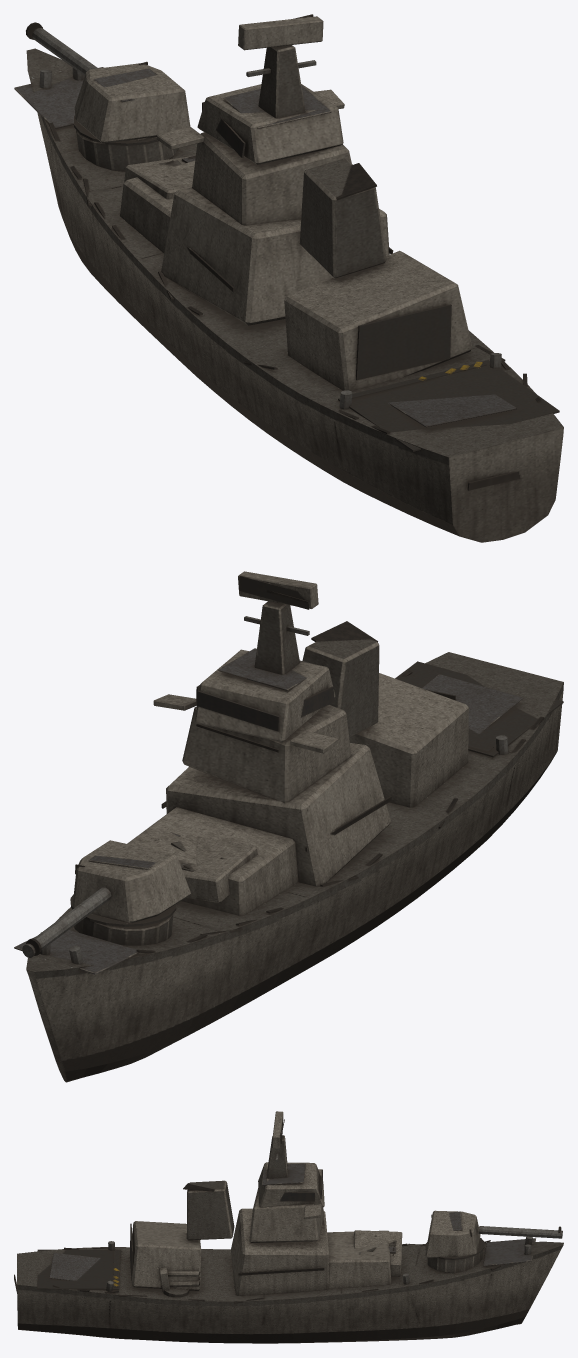
Rendered from ord_crusader_wreck.fbx.
The picture shows the model from 3 angles, top to bottom: view 1: azimuth 30°, elevation 25°; view 2: azimuth 150°, elevation 25°; view 3: azimuth 270°, elevation 25°; orthographic projection. The views are drawn at different scales.
Visible parts, largest first — view 1: base_bar, turret1_bar, radar_bar, launcher_bar; view 2: base_bar, turret1_bar, launcher_bar, radar_bar; view 3: base_bar, turret1_bar, launcher_bar, turret2_bar, radar_bar.
Boxes of the visible parts, x1,y1,x2,y2 form: base_bar: (14,45,563,542); turret1_bar: (26,22,190,143); radar_bar: (238,14,323,50); launcher_bar: (124,155,195,199); base_bar: (14,601,563,1082); turret1_bar: (22,840,190,957); launcher_bar: (155,833,257,902); radar_bar: (238,571,318,609); base_bar: (14,1135,563,1343); turret1_bar: (425,1210,562,1257); launcher_bar: (353,1230,402,1276); turret2_bar: (159,1267,200,1297); radar_bar: (272,1111,284,1148).
Size of the model in its own units: 694 by 1275 by 2889.
Materials: 2 (2 with a texture image).
